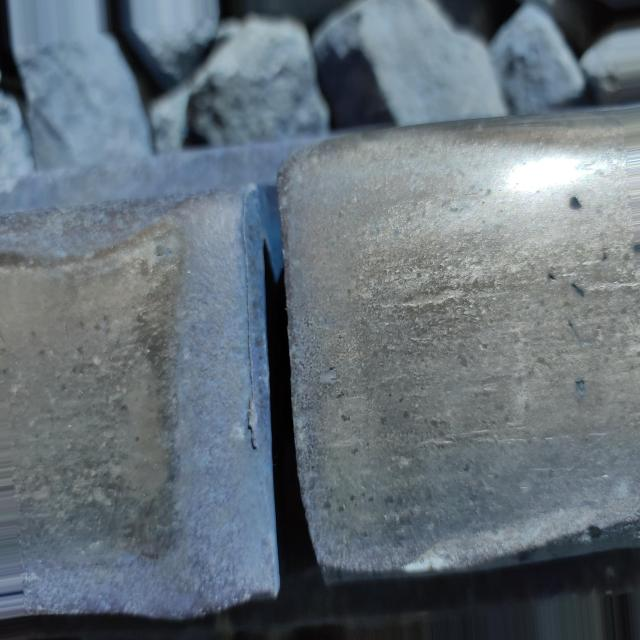crack: (156, 156, 400, 618)
